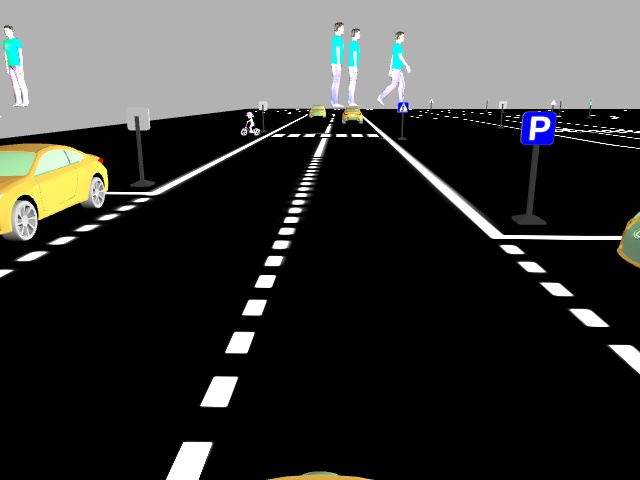Parking: (518, 110, 558, 148)
